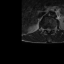CCS_stenosis: (47, 26, 49, 33)
LFS_stenosis: (51, 27, 53, 31)
LLS_normal: (49, 26, 51, 32)
RFS_stenosis: (44, 26, 45, 31)
RLS_stenosis: (45, 26, 47, 32)
